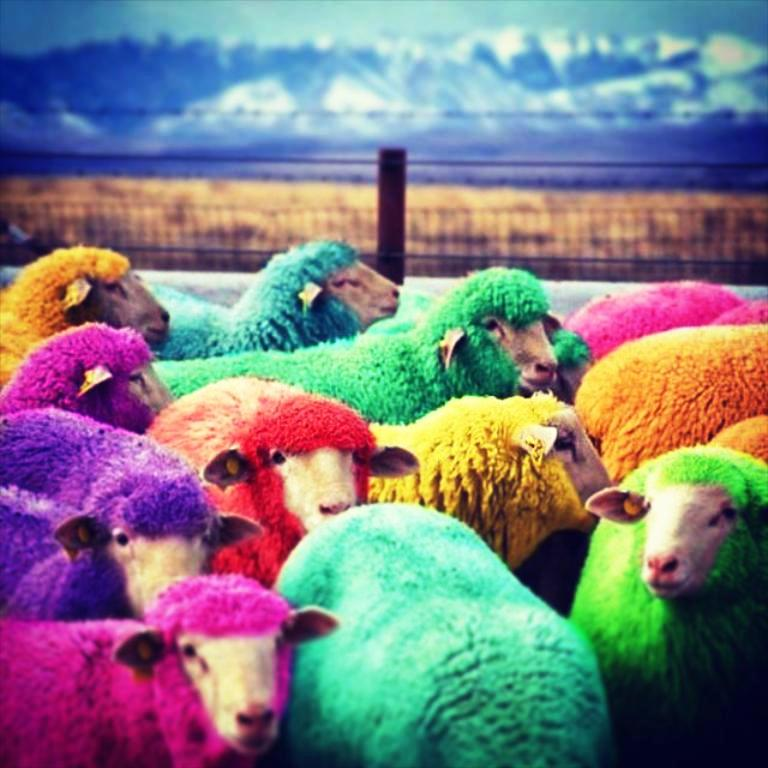Sheep: (213, 505, 628, 768), (172, 242, 573, 423), (0, 555, 331, 768), (577, 430, 768, 768), (0, 409, 255, 645), (352, 387, 621, 560), (147, 373, 405, 553), (164, 218, 419, 348), (2, 325, 189, 453), (0, 238, 158, 380)
